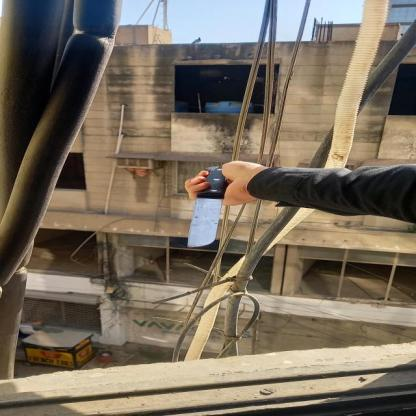Knife: (188, 166, 232, 247)
